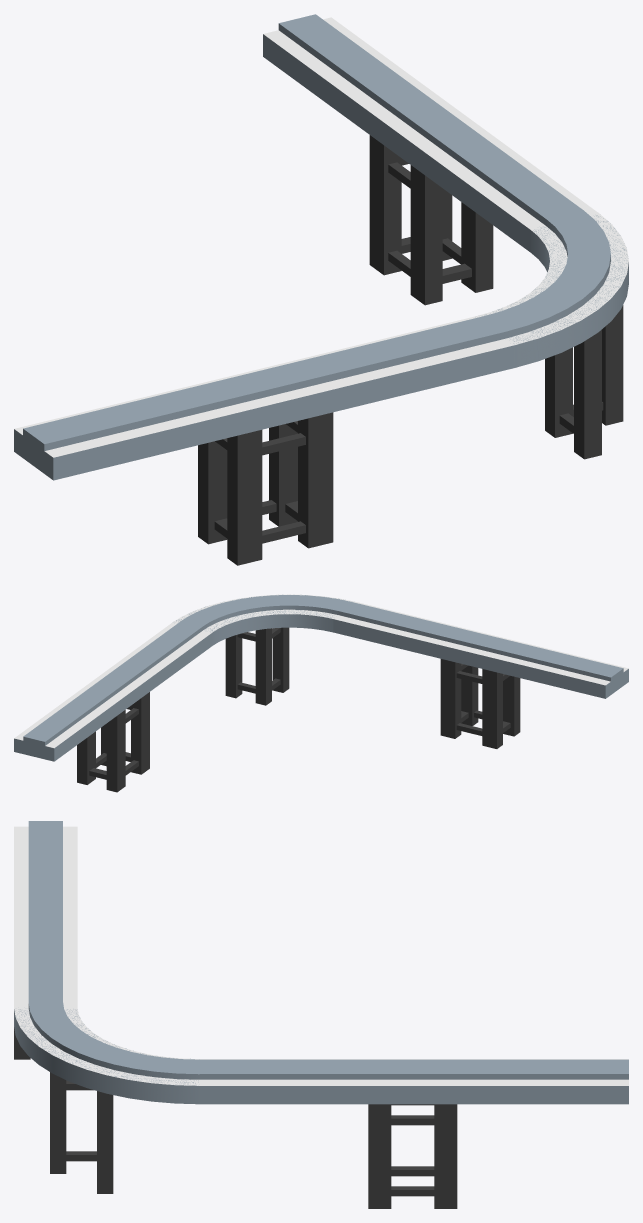
File: curve train ok.obj
3 views of the same model, one above another, from view 1: azimuth 30°, elevation 25°; view 2: azimuth 150°, elevation 25°; view 3: azimuth 270°, elevation 25° (orthographic). The views are drawn at different scales.
Parts seen in each view (by area): view 1: mesh_8, mesh_5, mesh_2, mesh_7, mesh_3, mesh_4, mesh_6, mesh_1, mesh_0; view 2: mesh_8, mesh_5, mesh_2, mesh_3, mesh_7, mesh_4, mesh_6, mesh_1, mesh_0; view 3: mesh_5, mesh_3, mesh_7, mesh_8, mesh_1, mesh_4, mesh_6, mesh_0.
Part boxes in pixels (x1,y1,x2,y2): mesh_8: [14, 315, 517, 480]; mesh_5: [263, 14, 583, 252]; mesh_2: [198, 412, 333, 565]; mesh_7: [369, 135, 493, 305]; mesh_3: [475, 210, 628, 367]; mesh_4: [545, 305, 623, 459]; mesh_6: [263, 17, 599, 230]; mesh_1: [14, 316, 516, 457]; mesh_0: [474, 212, 628, 345]; mesh_8: [333, 601, 628, 698]; mesh_5: [14, 621, 212, 761]; mesh_2: [440, 659, 520, 748]; mesh_3: [176, 594, 351, 645]; mesh_7: [77, 692, 149, 792]; mesh_4: [225, 627, 289, 705]; mesh_6: [14, 623, 211, 748]; mesh_1: [332, 602, 628, 685]; mesh_0: [171, 594, 356, 632]; mesh_5: [196, 1059, 628, 1104]; mesh_3: [14, 1001, 199, 1104]; mesh_7: [368, 1104, 457, 1208]; mesh_8: [14, 821, 62, 1026]; mesh_1: [14, 826, 77, 1008]; mesh_4: [50, 1072, 113, 1193]; mesh_6: [197, 1059, 628, 1085]; mesh_0: [14, 1007, 199, 1085].
Bounding box in the file's own units: 1.99 × 0.4609 × 2.
